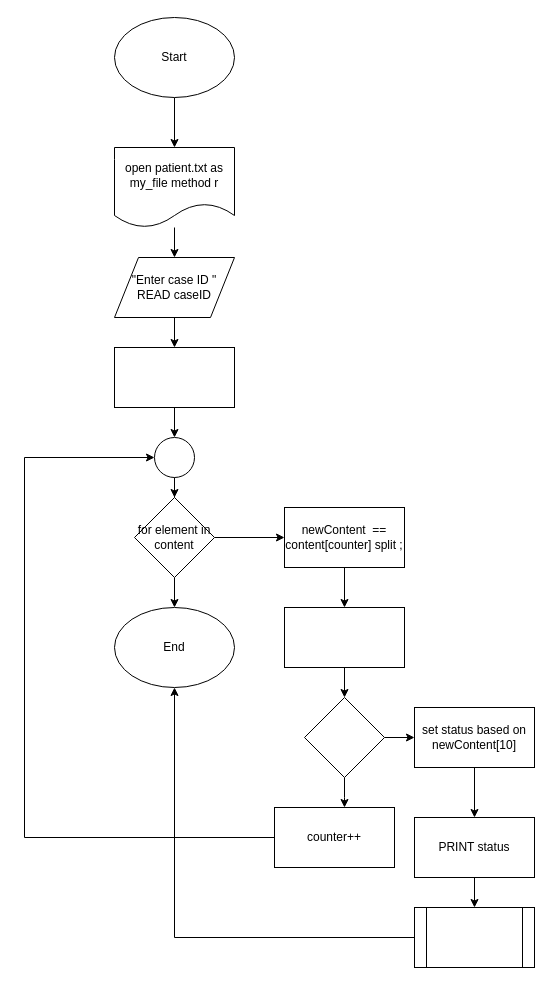
Some shapes in this 552 by 985 pixel diagram are drawn without their labels. Each missing label, with the box of its shape:
counter = 0: (114, 346, 234, 408)
del newContent[-1]: (284, 606, 404, 668)
exitMenu(): (414, 906, 534, 968)
newContent[9] == caseID: (304, 696, 384, 778)
